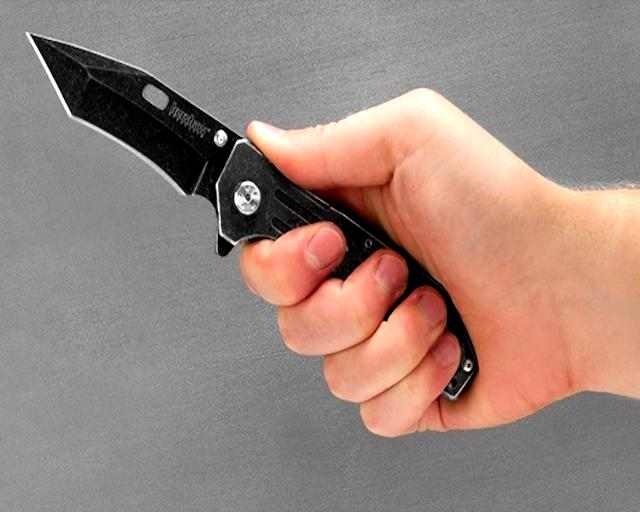pocket-knife: (16, 30, 454, 378)
